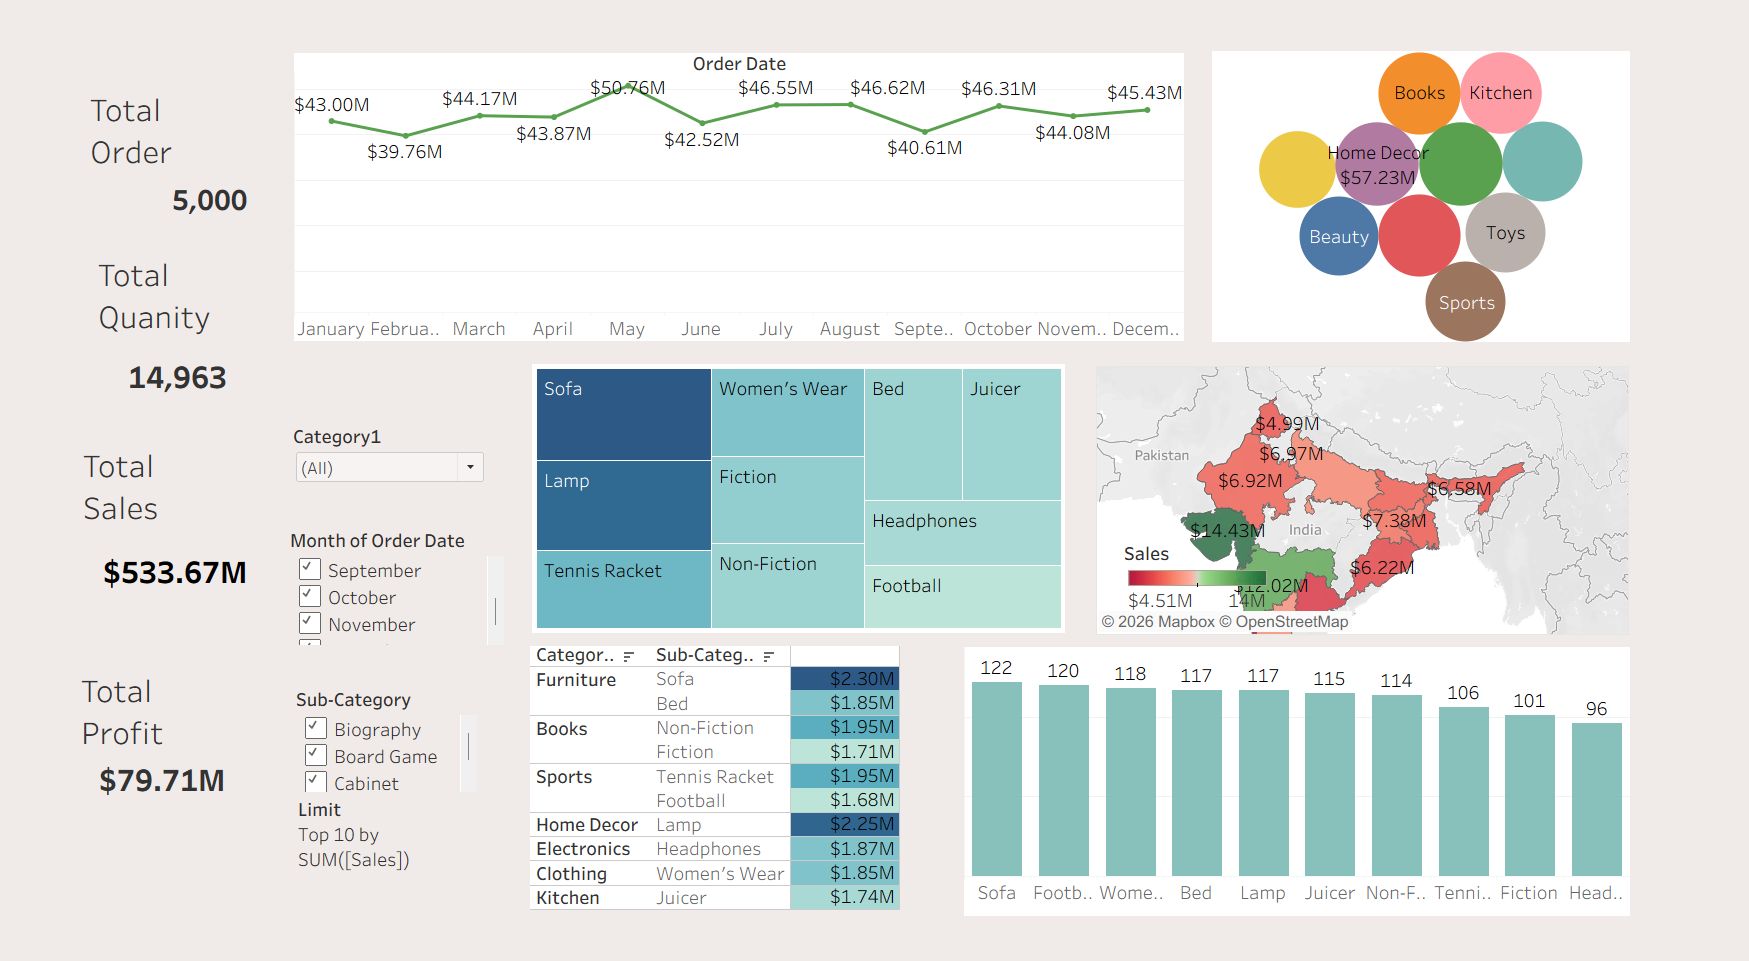

This screenshot's page, from the dashboard's own definition file:
{"tool":"tableau","page":{"name":"E-Commerce Dashboard","canvas":[1600,900],"ordinal":0},"visuals":[{"type":"worksheet","title":"Sales by Category","mark":"Circle","box":[1149,26,418,291]},{"type":"worksheet","title":"Monthly Sales Trend","mark":"Automatic","rows":["Sales"],"cols":["Order Date"],"box":[231,28,890,288]},{"type":"worksheet","title":"Total Orders","mark":"Automatic","box":[23,59,166,132]},{"type":"worksheet","title":"Total Quantity","mark":"Automatic","box":[31,224,137,155]},{"type":"worksheet","title":"Sales by Sub-Category","mark":"Automatic","box":[469,339,533,269]},{"type":"worksheet","title":"City-wise sales","mark":"Automatic","box":[1033,341,533,269]},{"type":"filter","title":"Category Vs Sub-Category","param":"[federated.1cue1dg0h9yr3z1ah3szj05s44wc].[none:Category:nk]","box":[230,398,194,96]},{"type":"worksheet","title":"Total Sales","mark":"Automatic","box":[16,415,173,163]},{"type":"filter","title":"Category Vs Sub-Category","param":"[federated.1cue1dg0h9yr3z1ah3szj05s44wc].[mn:Order Date:ok]","box":[227,502,214,118]},{"type":"legend","title":"City-wise sales","param":"[federated.1cue1dg0h9yr3z1ah3szj05s44wc].[sum:Sales:qk]","box":[1061,515,147,100]},{"type":"worksheet","title":"Profit by Category","mark":"Square","rows":["Category","Sub-Category"],"box":[467,621,370,264]},{"type":"worksheet","title":"Category Vs Sub-Category","mark":"Automatic","rows":["Order ID"],"cols":["Sub-Category"],"box":[901,622,666,269]},{"type":"worksheet","title":"Total Profit","mark":"Automatic","box":[14,640,153,131]},{"type":"filter","title":"Category Vs Sub-Category","param":"[federated.1cue1dg0h9yr3z1ah3szj05s44wc].[none:Sub-Category:nk]","box":[233,661,181,189]}]}

Visuals, with their boxes in screenshot pixels (x1, y1, x2, y2), scaled from the page's 1600x900 canvas onto the 1749x961 screenshot:
"Sales by Category" worksheet (Circle marks): {"x1": 1256, "y1": 28, "x2": 1713, "y2": 338}
"Monthly Sales Trend" worksheet: {"x1": 253, "y1": 30, "x2": 1225, "y2": 337}
"Total Orders" worksheet: {"x1": 25, "y1": 63, "x2": 207, "y2": 204}
"Total Quantity" worksheet: {"x1": 34, "y1": 239, "x2": 184, "y2": 405}
"Sales by Sub-Category" worksheet: {"x1": 513, "y1": 362, "x2": 1095, "y2": 649}
"City-wise sales" worksheet: {"x1": 1129, "y1": 364, "x2": 1712, "y2": 651}
"Category Vs Sub-Category" filter: {"x1": 251, "y1": 425, "x2": 463, "y2": 527}
"Total Sales" worksheet: {"x1": 17, "y1": 443, "x2": 207, "y2": 617}
"Category Vs Sub-Category" filter: {"x1": 248, "y1": 536, "x2": 482, "y2": 662}
"City-wise sales" legend: {"x1": 1160, "y1": 550, "x2": 1320, "y2": 657}
"Profit by Category" worksheet (Square marks): {"x1": 510, "y1": 663, "x2": 915, "y2": 945}
"Category Vs Sub-Category" worksheet: {"x1": 985, "y1": 664, "x2": 1713, "y2": 951}
"Total Profit" worksheet: {"x1": 15, "y1": 683, "x2": 183, "y2": 823}
"Category Vs Sub-Category" filter: {"x1": 255, "y1": 706, "x2": 453, "y2": 908}
